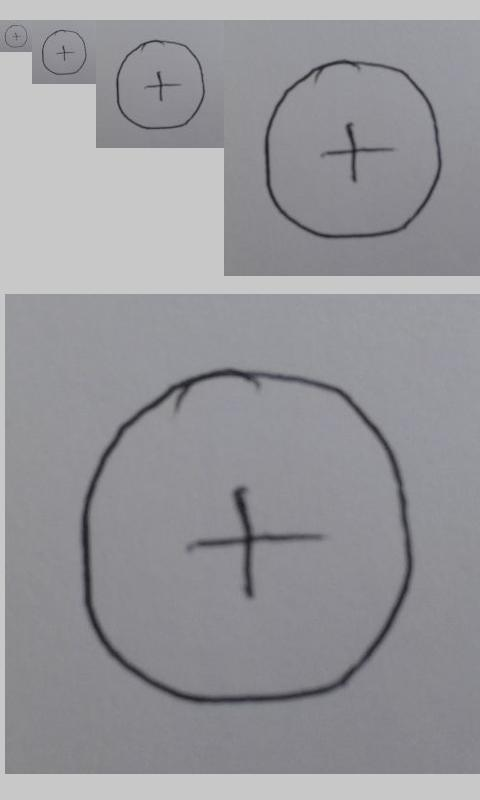button: (79, 366, 418, 707), (263, 59, 443, 239), (115, 39, 206, 130), (41, 29, 88, 76), (4, 24, 27, 48)
